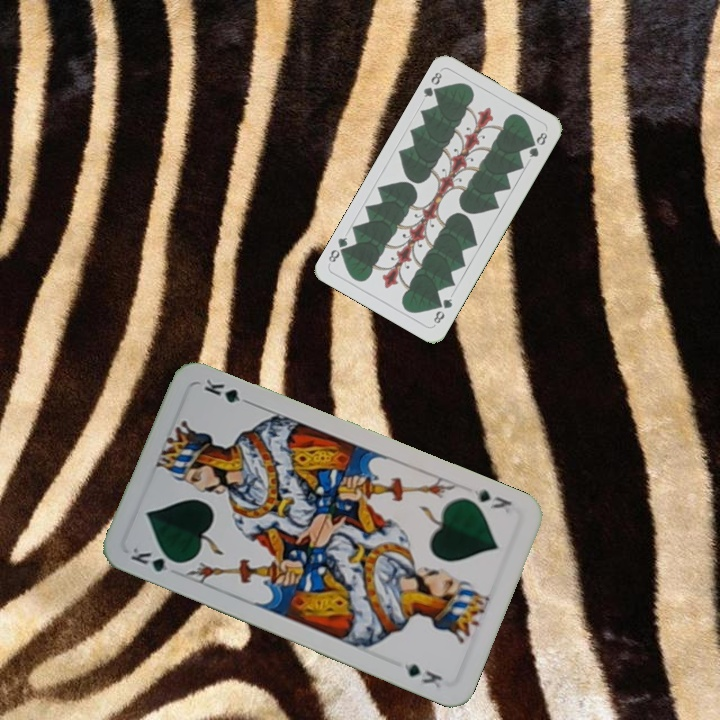G8: (429, 294, 455, 326), (419, 68, 444, 100)
GK: (126, 543, 184, 575), (468, 485, 514, 516)
